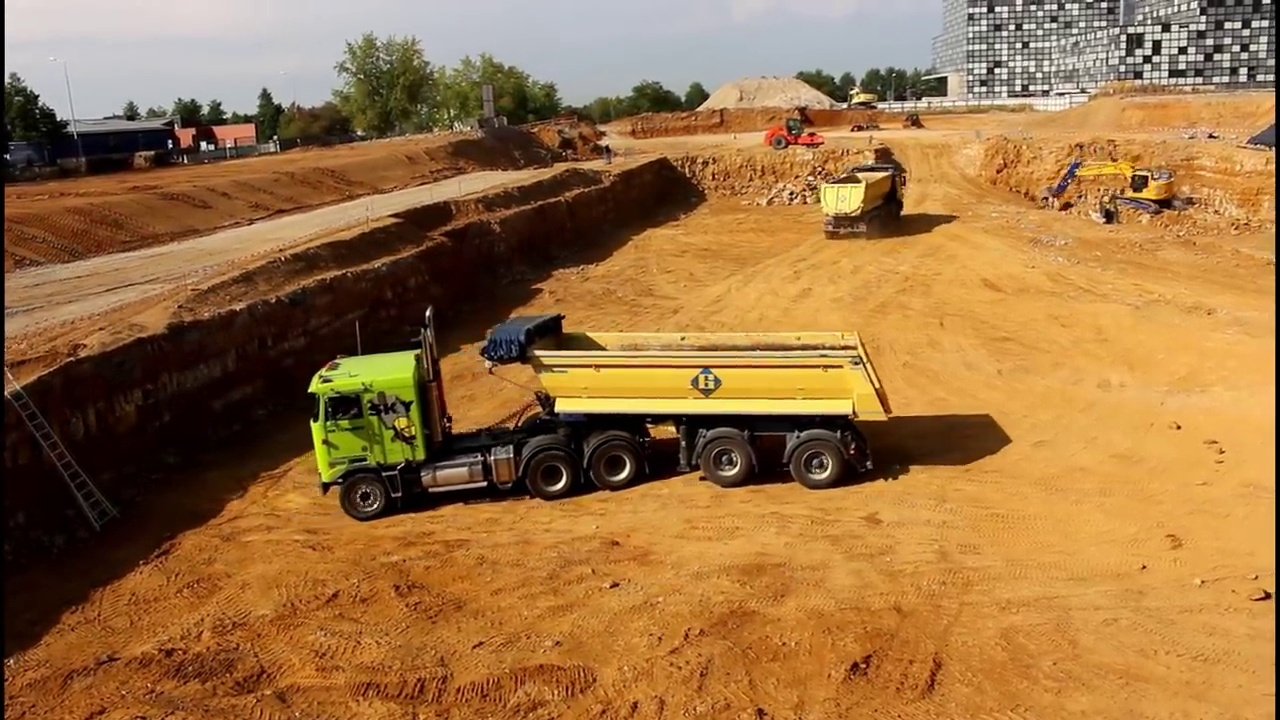compactor: (762, 116, 827, 151)
excavator: (1036, 155, 1199, 220), (841, 83, 879, 113)
truck: (303, 302, 898, 524), (816, 162, 910, 238)
worker: (602, 140, 615, 168)
